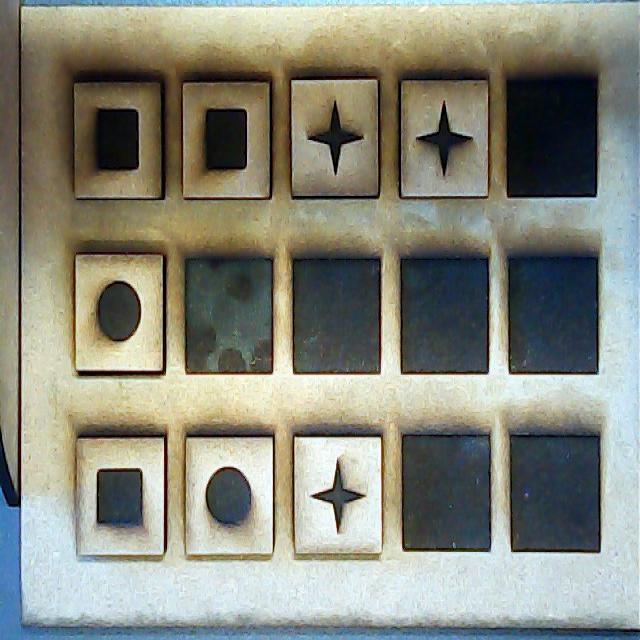circle: (183, 435, 275, 560), (77, 254, 166, 374)
square: (70, 78, 164, 199), (78, 435, 164, 555), (184, 82, 272, 196)
star: (294, 435, 384, 559), (289, 78, 380, 197), (401, 79, 488, 195)
